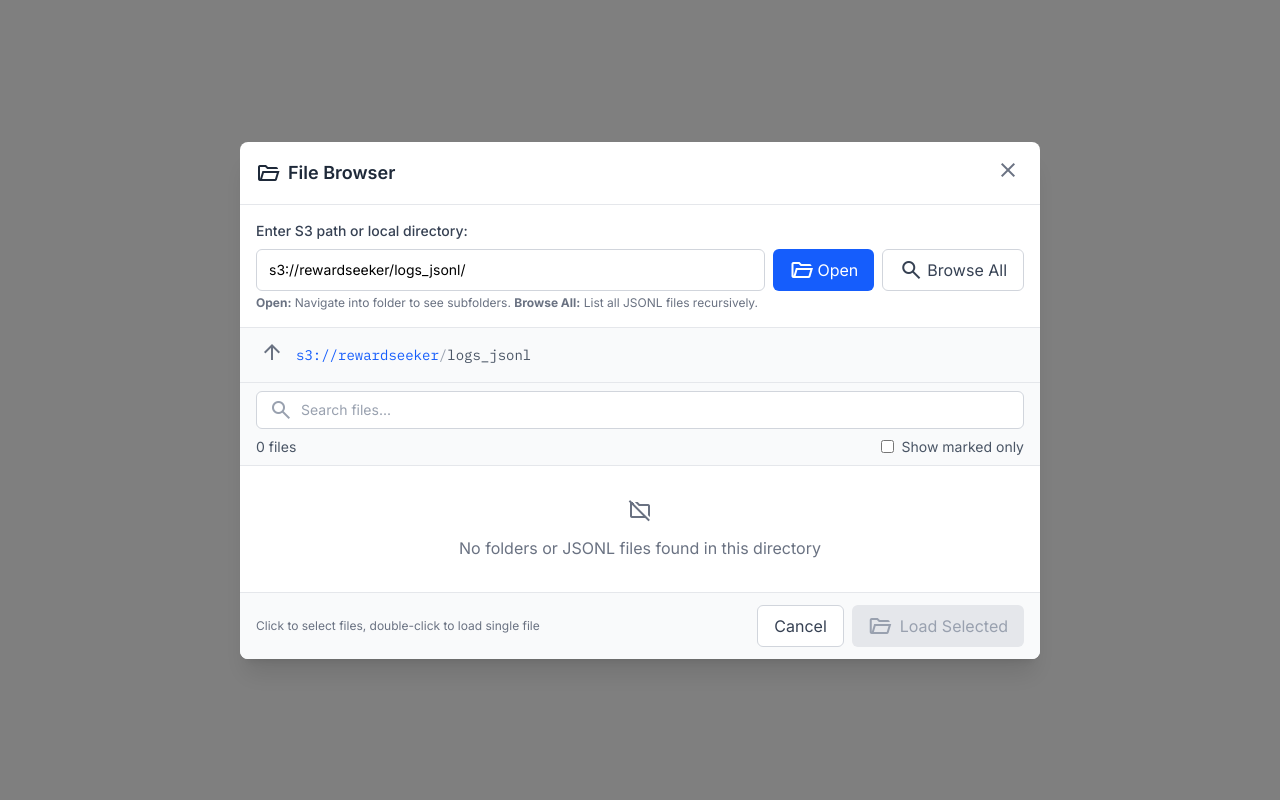
Test: FileBrowser › keeps the plain path and recursive badge in browse mode
Expected: the button titled "Navigate into folder to see subfolders" is enabled, [774,248,874,290]
Click the button titled "Browse all JSONL files recursively" at (953, 270), box [882,248,1024,290]
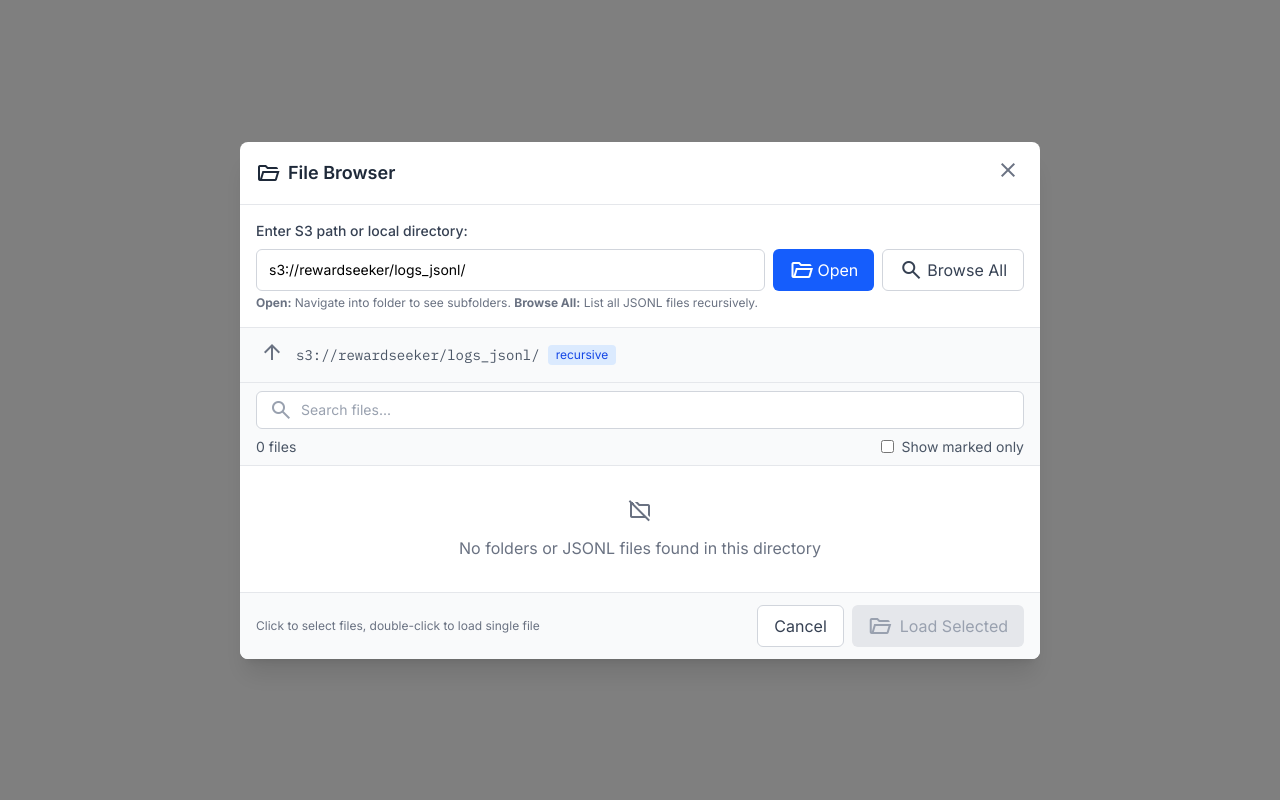
Expected: the text "recursive" is shown, [548,344,616,364]
Expected: the navigation bar is gone
Expected: the text "s3://rewardseeker/logs_jsonl/" is shown, [296,344,540,364]
